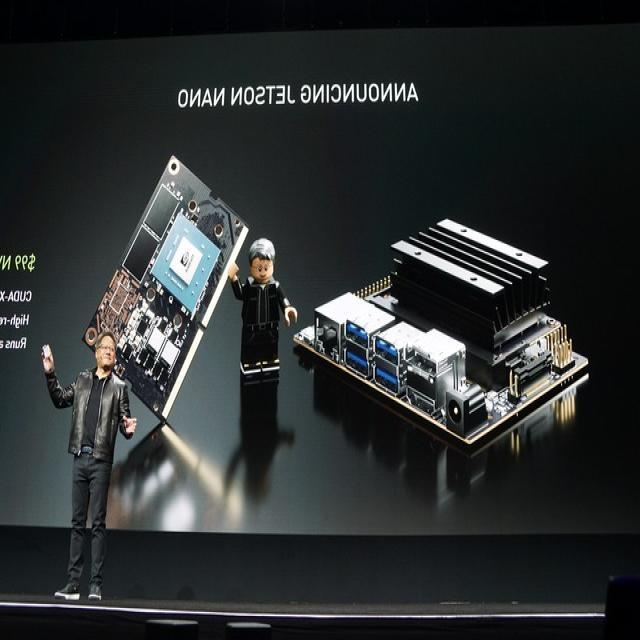Jetson Nano: (294, 218, 591, 457)
